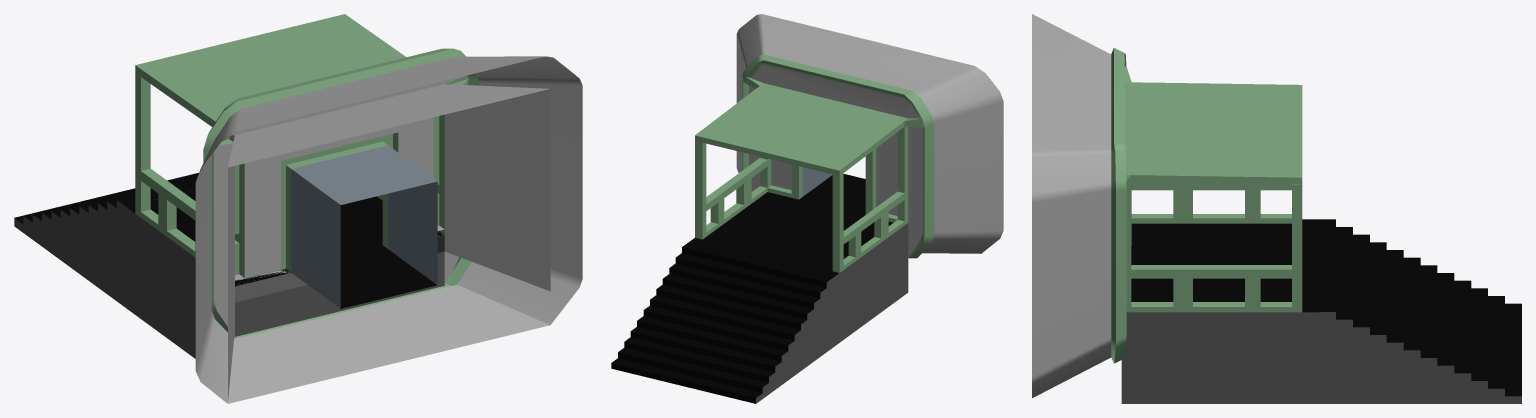
The model's file is ExteriorBase_Door.fbx.
The picture shows the model from 3 angles, left to right: view 1: azimuth 30°, elevation 25°; view 2: azimuth 150°, elevation 25°; view 3: azimuth 270°, elevation 25°; orthographic projection. The views are drawn at different scales.
Visible parts, largest first — view 1: ExteriorBase_Door; view 2: ExteriorBase_Door; view 3: ExteriorBase_Door.
Boxes of the visible parts, box(x1,y1,x2,y2) form: ExteriorBase_Door: box(14, 14, 582, 403); ExteriorBase_Door: box(611, 14, 1003, 403); ExteriorBase_Door: box(1032, 14, 1521, 403).
Bounding box in the file's own units: 1200 × 900 × 1450.
